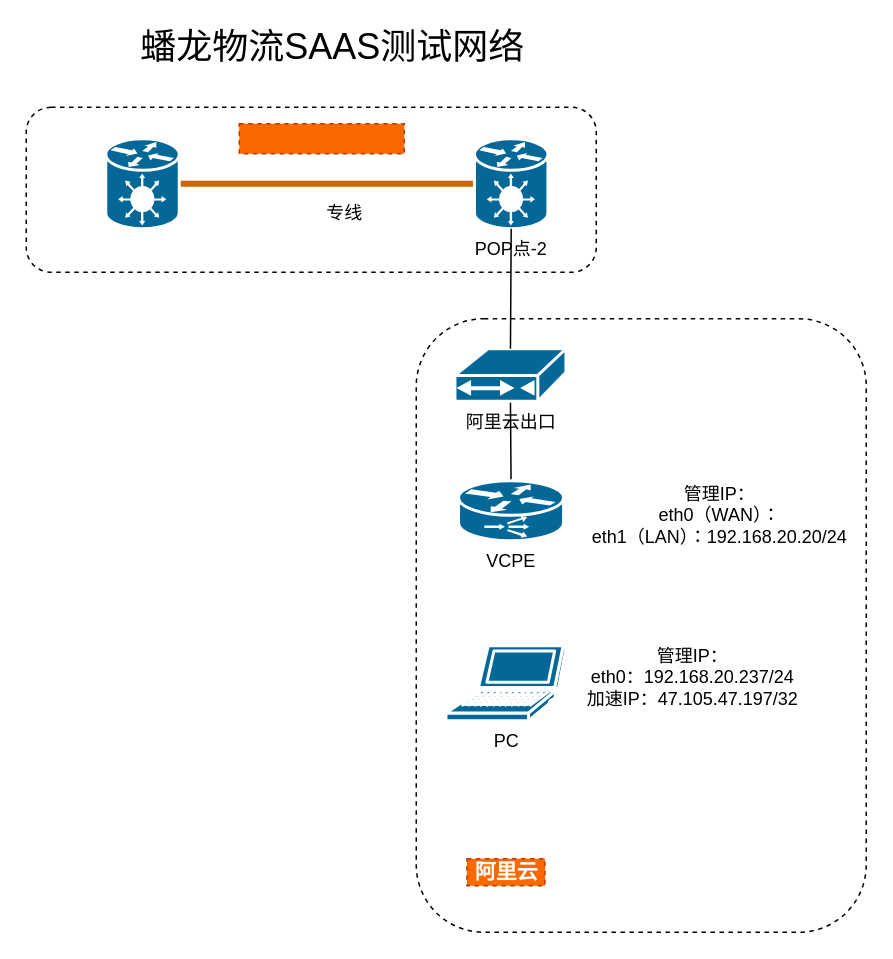
This 893x959 diagram has some shape labels left out. Each missing label, with the centre of its shape:
POP点-1: point (142, 183)
SD-WAN骨干网: point (321, 138)
